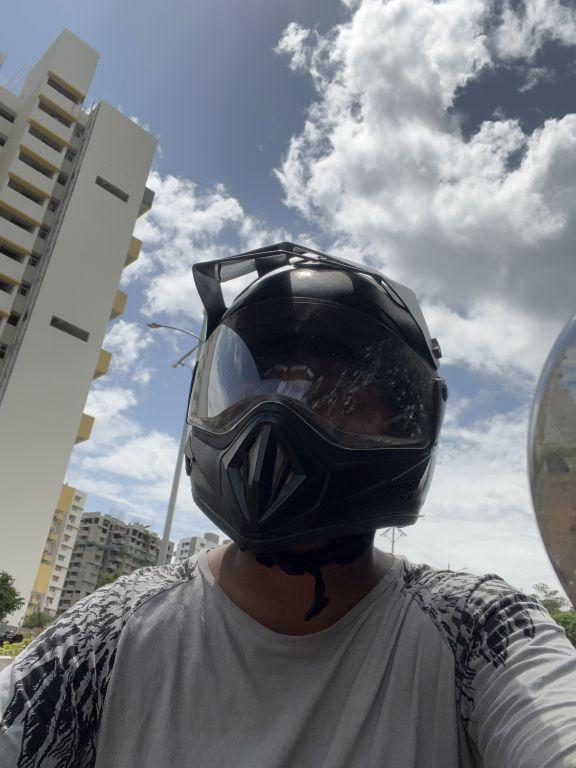helmet: (159, 207, 461, 578)
